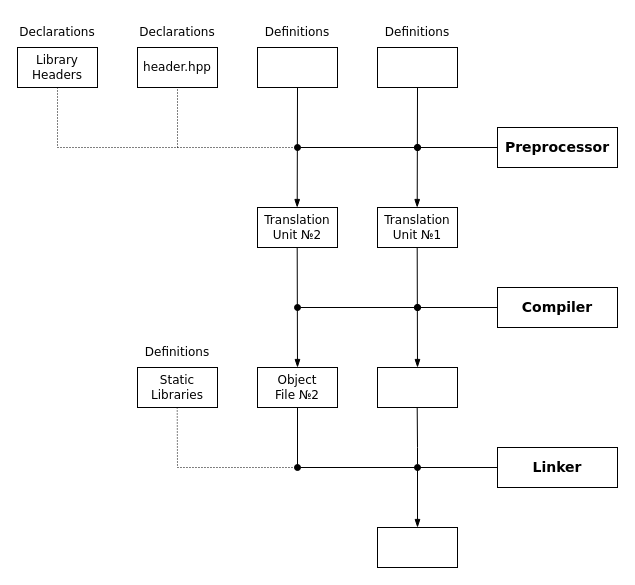
Image size: 635x585. Some labels were removed from this diagram. Each missing label, with the centre of its shape:
"Executable (Library)" goes at point (417, 547).
"main.cpp" goes at point (417, 67).
"Object File №1" goes at point (417, 387).
"source.cpp" goes at point (297, 67).
